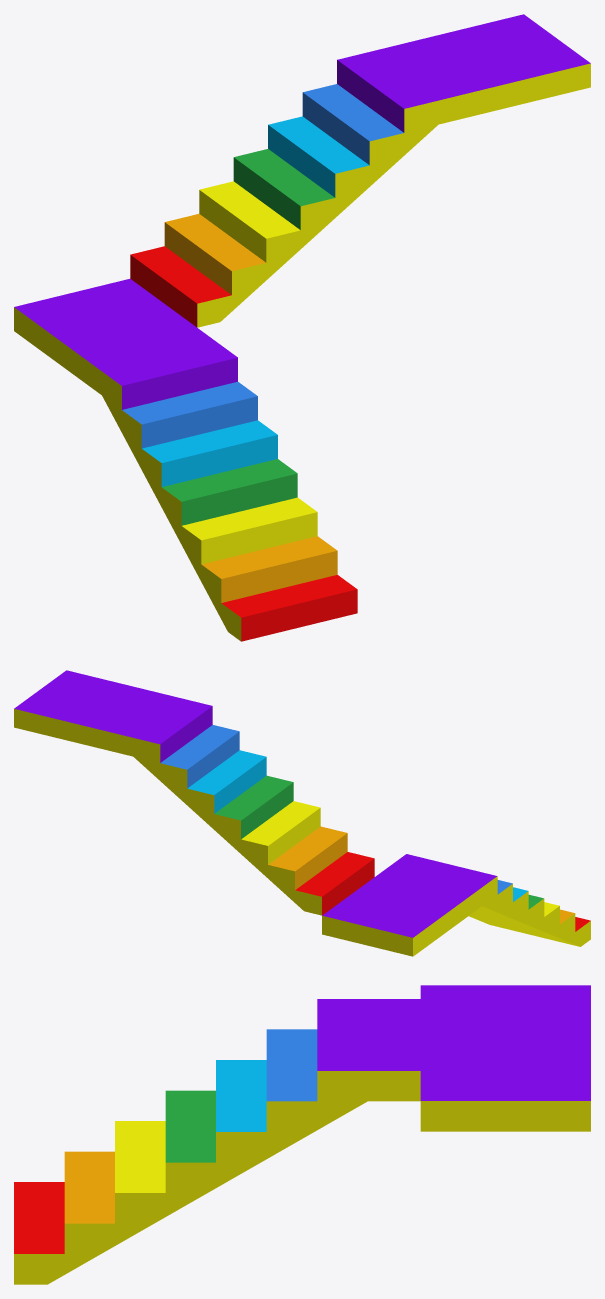
File: Lader2.fbx
3 views of the same model, one above another, from view 1: azimuth 30°, elevation 25°; view 2: azimuth 150°, elevation 25°; view 3: azimuth 270°, elevation 25° (orthographic). The views are drawn at different scales.
Parts seen in each view (by area): view 1: Lader2; view 2: Lader2; view 3: Lader2.
Part boxes in pixels (x1,y1,x2,y2): Lader2: [14, 14, 590, 641]; Lader2: [14, 670, 590, 956]; Lader2: [14, 985, 590, 1284].
Bounding box in the file's own units: 22.19 × 14 × 17.13.
